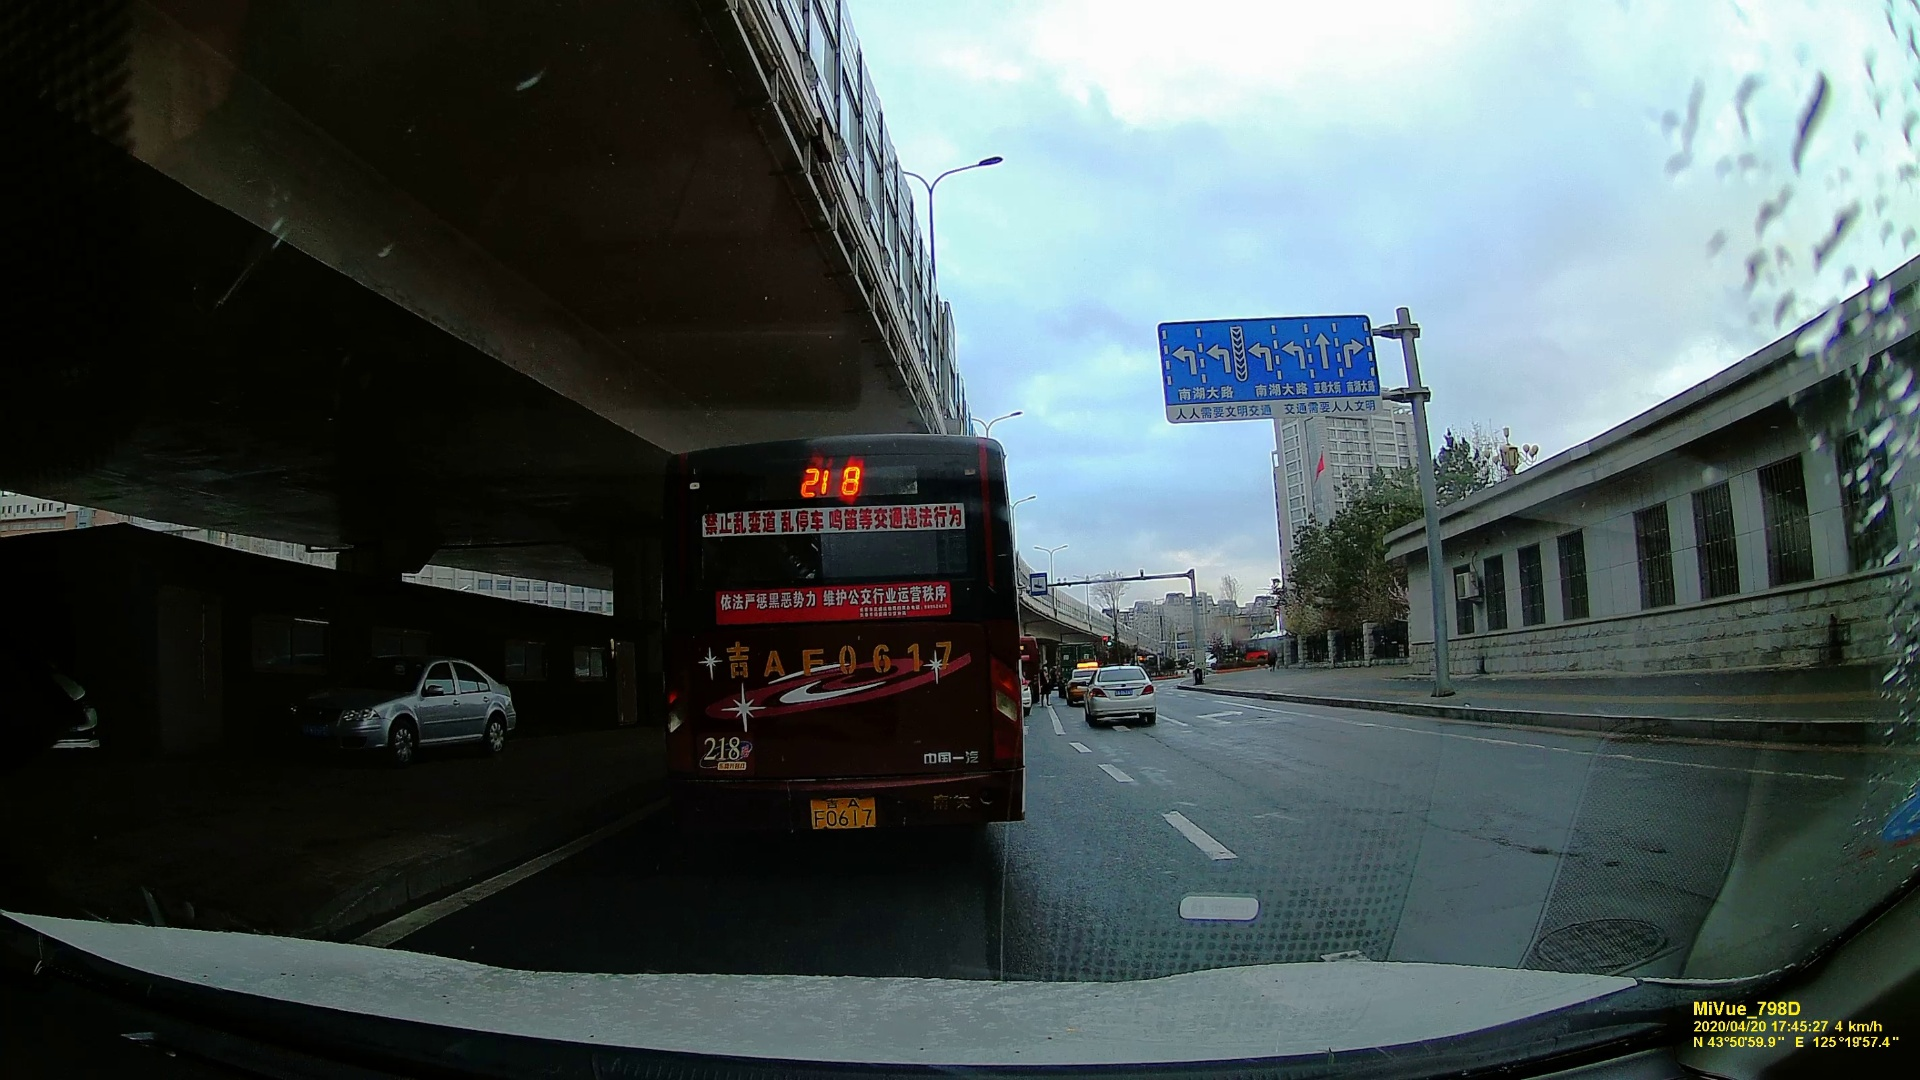bus: (650, 440, 1016, 838)
person: (1039, 662, 1053, 709), (1267, 644, 1279, 670)
traffic_sign: (1166, 320, 1374, 412), (1029, 573, 1048, 596)
vehicle: (317, 657, 520, 758), (1084, 662, 1158, 726)
